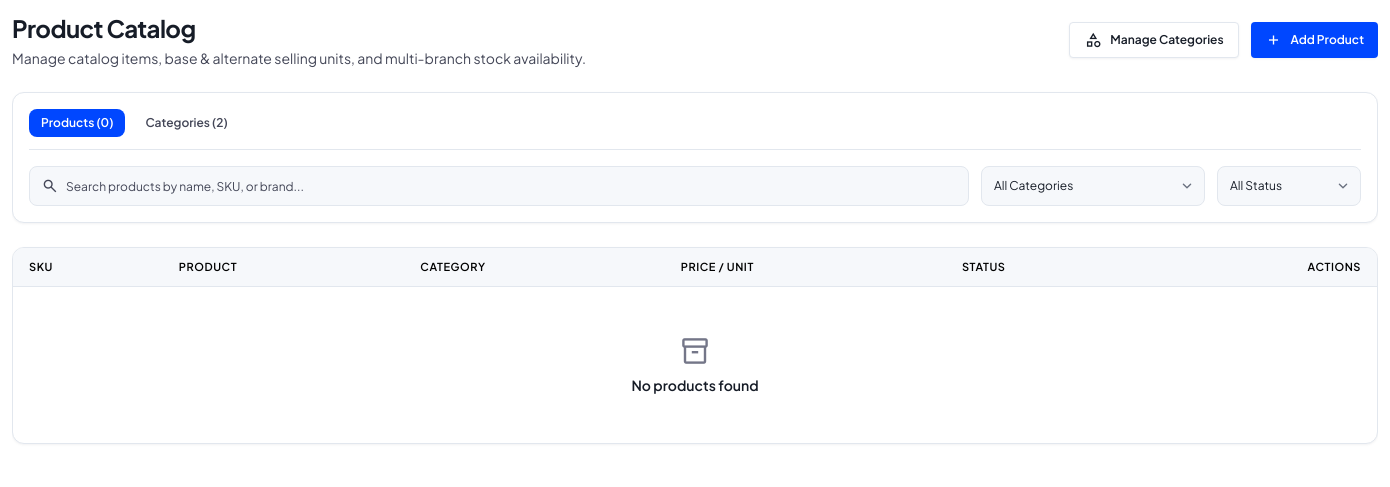
it: Catalog Component - Product and Category Search › renders contextual empty state when no products match filters
Step 1. Type "Unknown Product" into the field with placeholder "Search products by name, SKU, or brand..." → (499, 186), box [29,166,969,206]
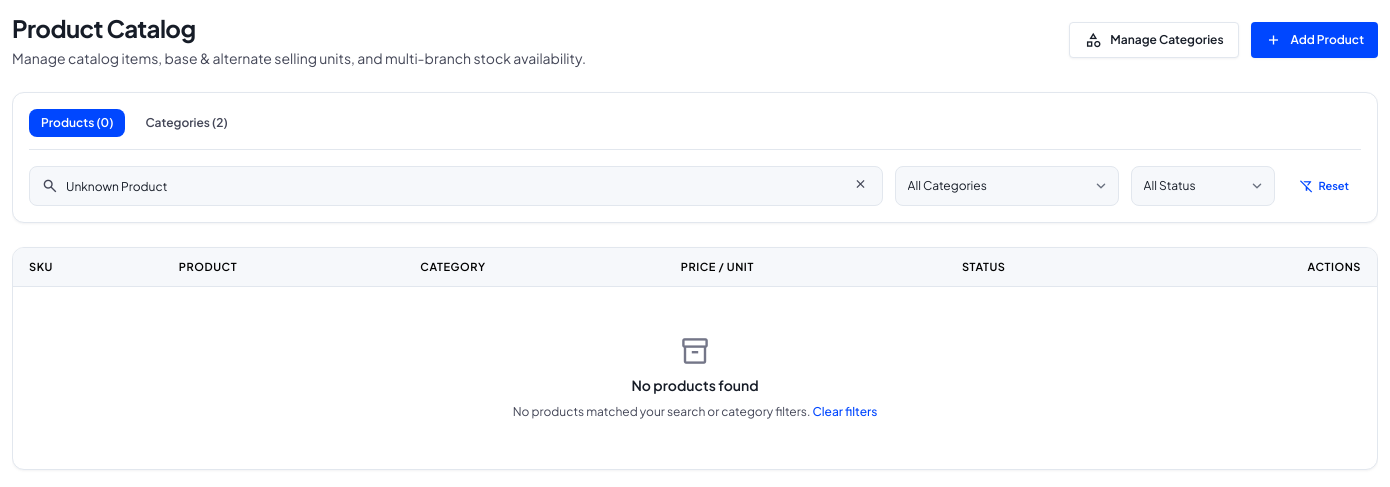
Expected: the text "No products found" is shown, [631,375,759,395]
Now the text "No products matched your search" is shown, box [513,404,810,419]
